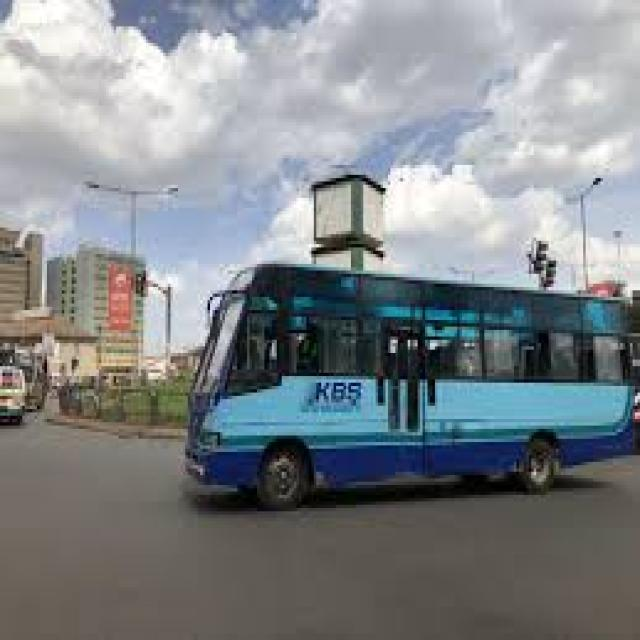bus: (145, 161, 640, 564)
